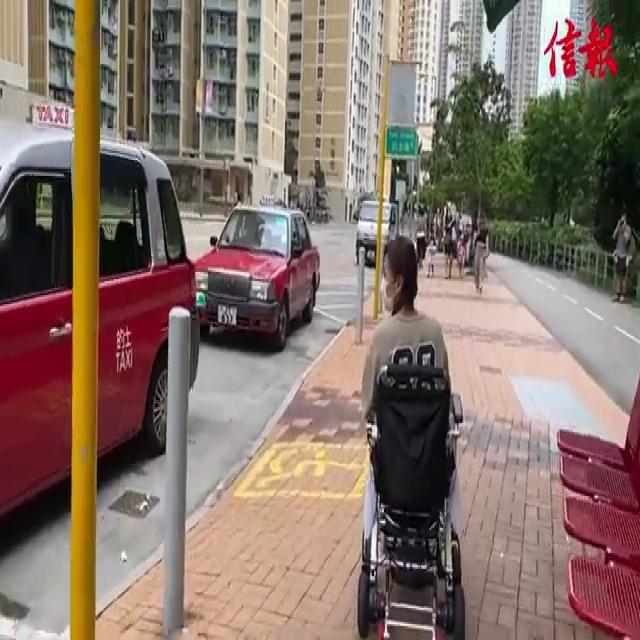wheelchairs: (350, 336, 483, 640)
